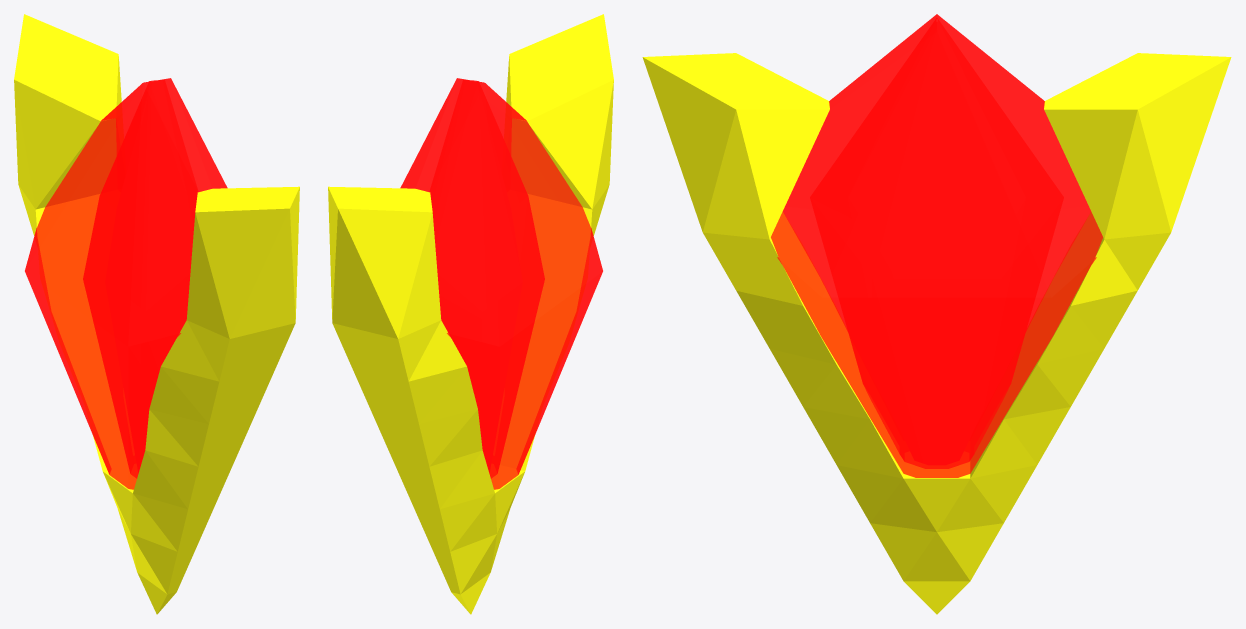
File: diamond.glb
3 views of the same model, side by side, from view 1: azimuth 30°, elevation 25°; view 2: azimuth 150°, elevation 25°; view 3: azimuth 270°, elevation 25° (orthographic). The views are drawn at different scales.
Parts seen in each view (by area): view 1: Pyramid, Platonic, Platonic.1; view 2: Pyramid, Platonic, Platonic.1; view 3: Pyramid, Platonic, Platonic.1.
Part boxes in pixels (left/top/right/bottom): Pyramid: left=14, top=14, right=299, bottom=614; Platonic: left=25, top=78, right=227, bottom=489; Platonic.1: left=83, top=80, right=198, bottom=477; Pyramid: left=328, top=14, right=613, bottom=614; Platonic: left=400, top=78, right=602, bottom=489; Platonic.1: left=429, top=80, right=544, bottom=477; Pyramid: left=642, top=53, right=1231, bottom=614; Platonic: left=771, top=14, right=1102, bottom=477; Platonic.1: left=810, top=18, right=1063, bottom=468.
Size of the model in its own units: 38.48 by 122 by 110.
